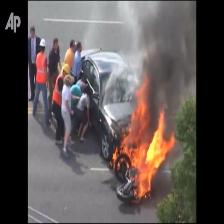fire: (112, 76, 175, 202)
